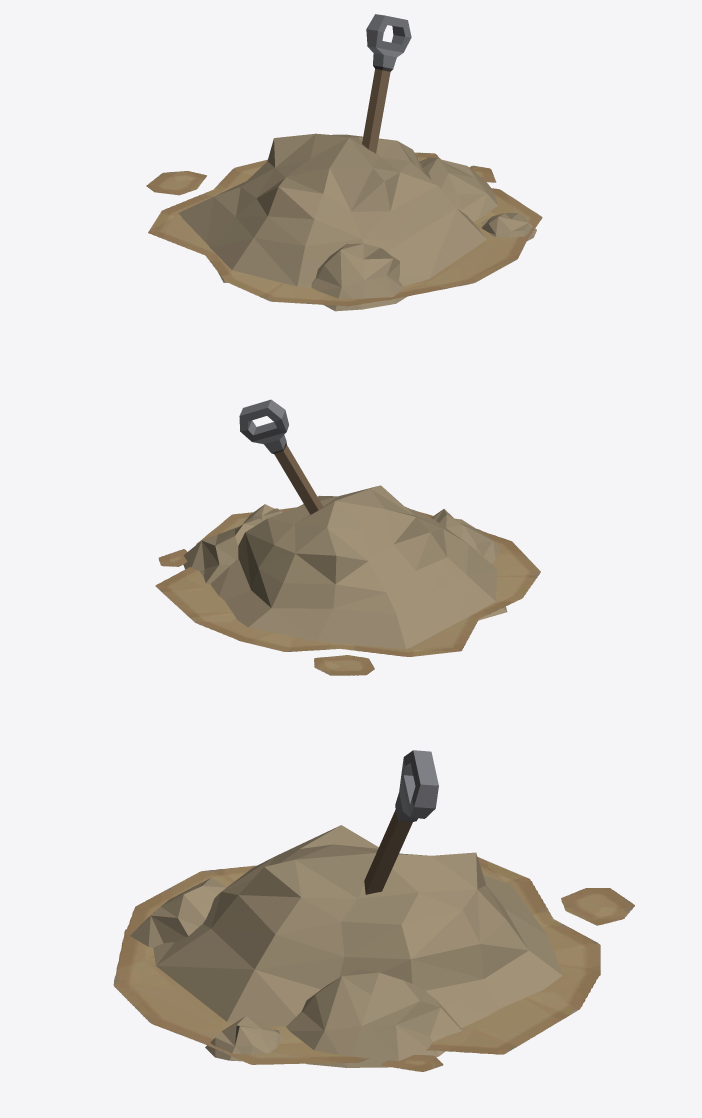
The model's file is buriedArtifact.fbx.
The picture shows the model from 3 angles, top to bottom: view 1: azimuth 30°, elevation 25°; view 2: azimuth 150°, elevation 25°; view 3: azimuth 270°, elevation 25°; orthographic projection. The views are drawn at different scales.
Visible parts, largest first — view 1: buriedArtifact, groundDecal; view 2: buriedArtifact, groundDecal; view 3: buriedArtifact, groundDecal.
Part boxes in pixels (x1,y1,x2,y2): buriedArtifact: (179, 14, 536, 311); groundDecal: (146, 152, 542, 306); buriedArtifact: (183, 399, 507, 649); groundDecal: (155, 507, 540, 675); buriedArtifact: (130, 750, 562, 1067); groundDecal: (113, 857, 634, 1071).
Size of the model in its own units: 4 by 1.71 by 4.
